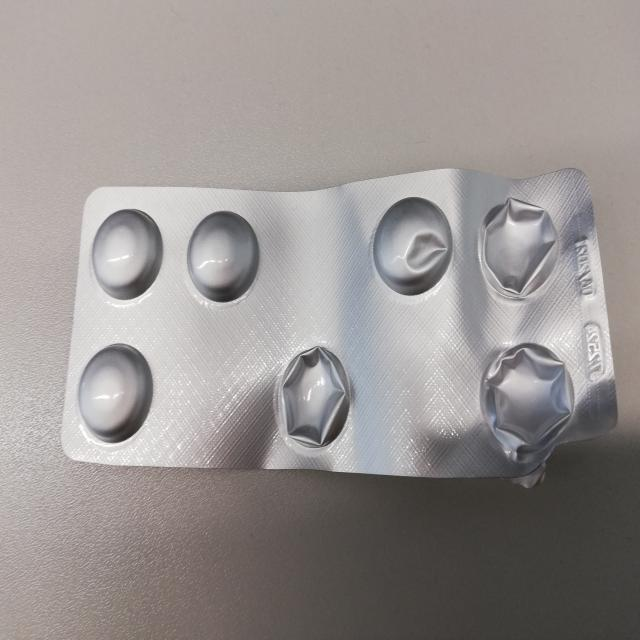Empty: (477, 337, 577, 467), (472, 192, 562, 304), (272, 342, 354, 454)
Pill: (369, 193, 455, 298), (76, 341, 153, 445), (88, 206, 167, 304), (184, 208, 262, 306)
